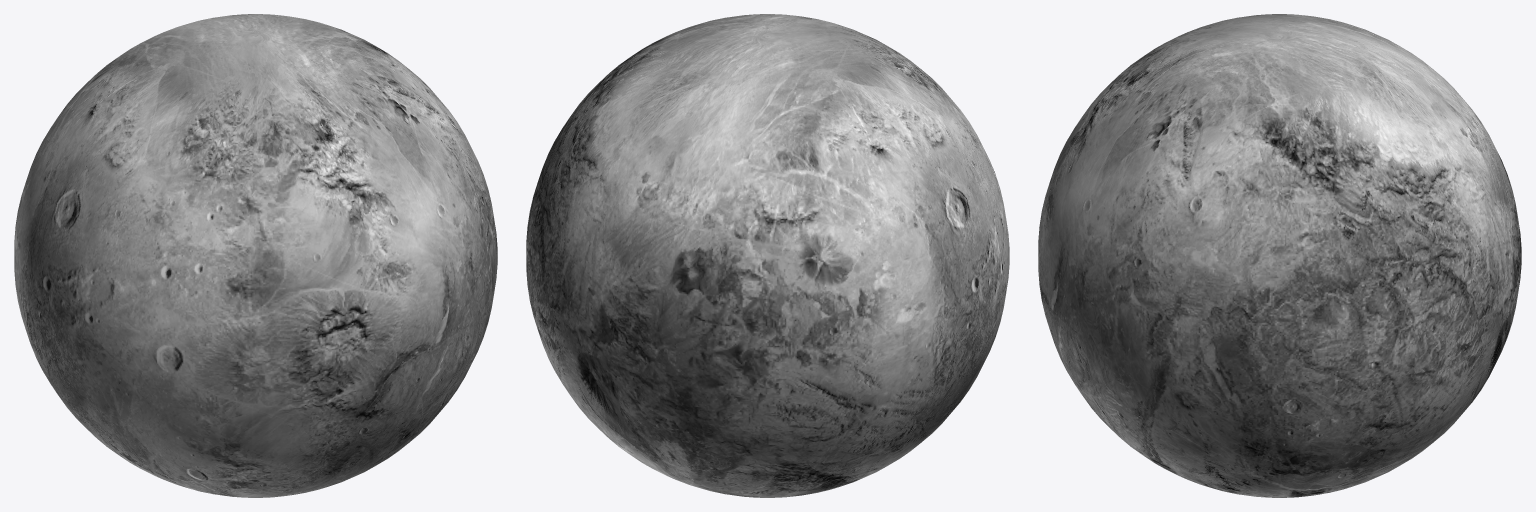
Rendered from haumea.glb.
The picture shows the model from 3 angles, left to right: view 1: azimuth 30°, elevation 25°; view 2: azimuth 150°, elevation 25°; view 3: azimuth 270°, elevation 25°; orthographic projection.
Visible parts, largest first — view 1: Sphere; view 2: Sphere; view 3: Sphere.
Part boxes in pixels (left/top/right/bottom): Sphere: left=14, top=14, right=497, bottom=497; Sphere: left=526, top=14, right=1009, bottom=497; Sphere: left=1038, top=14, right=1521, bottom=497.
Bounding box in the file's own units: 2 × 2 × 2.
1 material, 1 textured.
